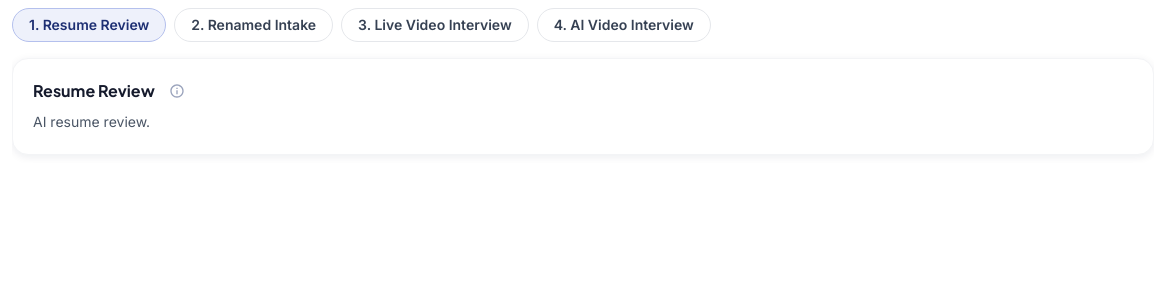
Test: ViewInterviewRounds › marks a question that is not asked
Click the button "3. Live Video Interview".
click(435, 25)  # box [341,8,529,42]
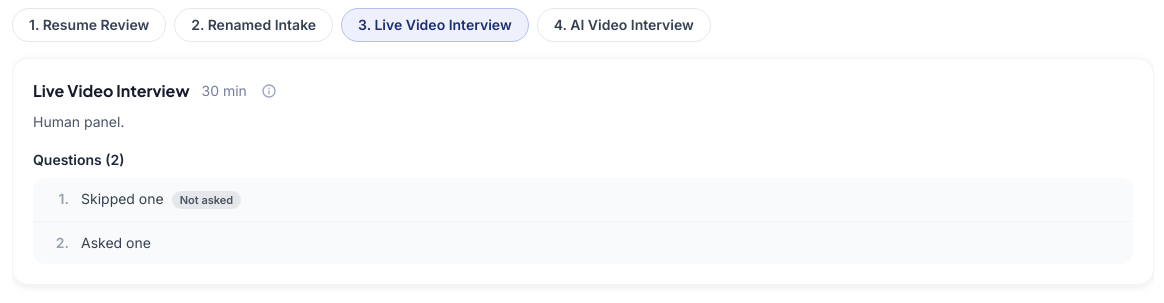
Now the text "Not asked" is shown once, box [172,191,241,209]
